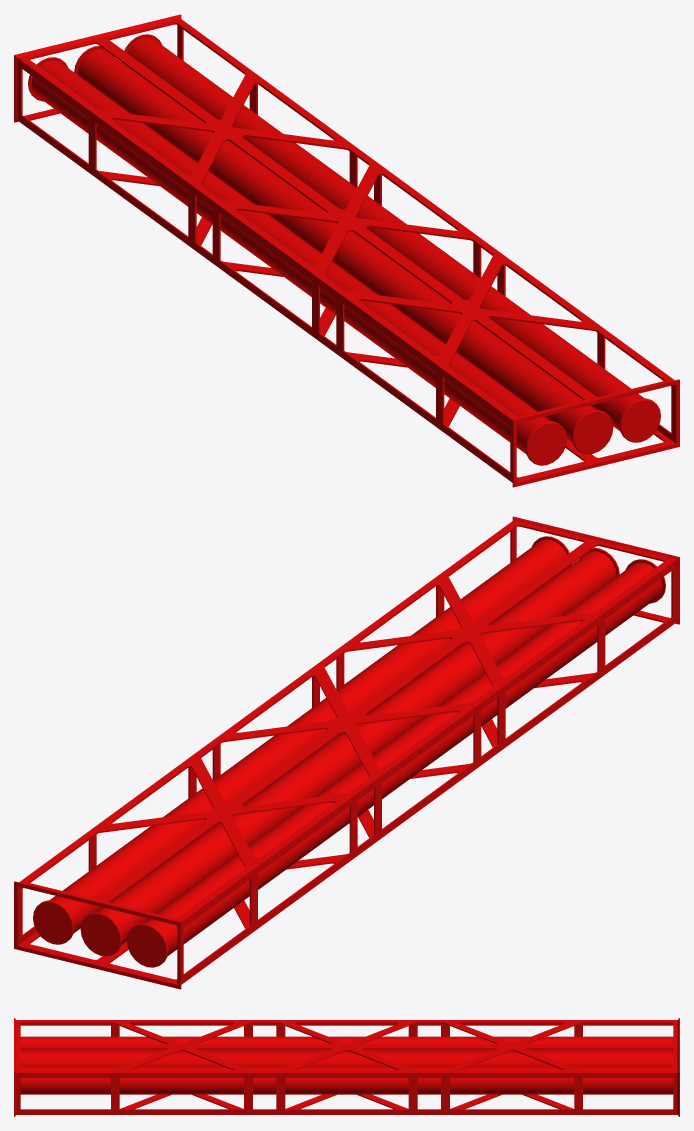
Rendered from Support_2.fbx.
The picture shows the model from 3 angles, top to bottom: view 1: azimuth 30°, elevation 25°; view 2: azimuth 150°, elevation 25°; view 3: azimuth 270°, elevation 25°; orthographic projection. The views are drawn at different scales.
Visible parts, largest first — view 1: polySurface2200; view 2: polySurface2200; view 3: polySurface2200.
Boxes of the visible parts, x1,y1,x2,y2 form: polySurface2200: [14, 14, 679, 487]; polySurface2200: [14, 516, 679, 989]; polySurface2200: [14, 1018, 679, 1116].
Size of the model in its own units: 145 by 55.72 by 753.
